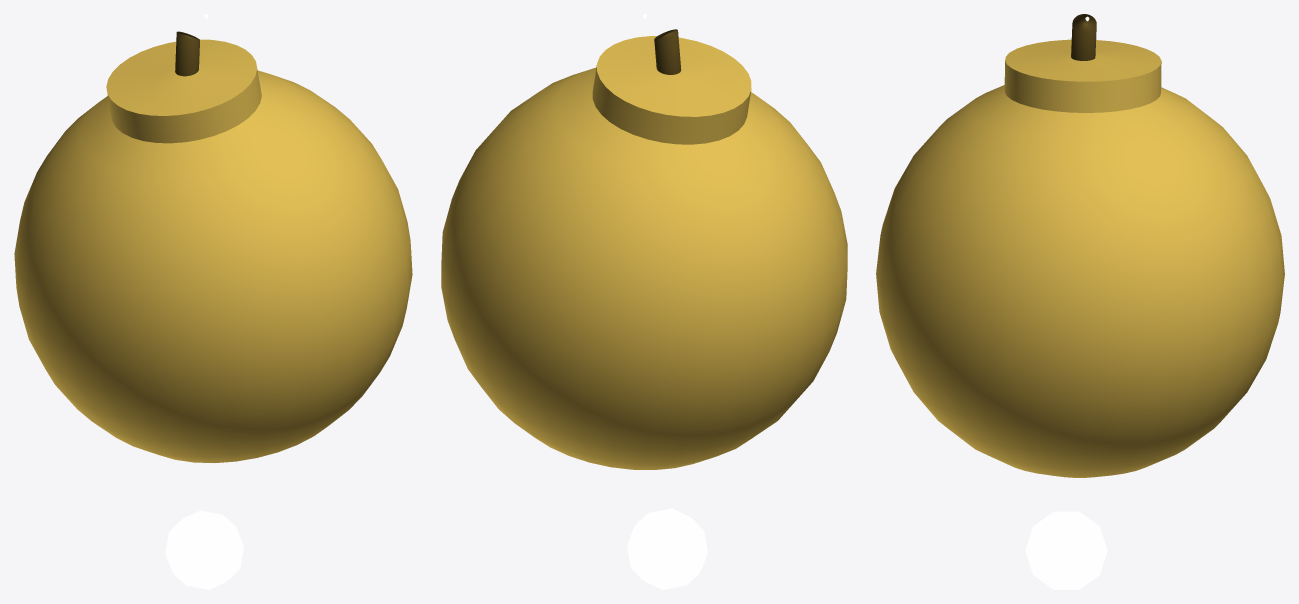
Rendered from bomba.glb.
3 views of the same model, side by side, from view 1: azimuth 30°, elevation 25°; view 2: azimuth 150°, elevation 25°; view 3: azimuth 270°, elevation 25° (orthographic). The views are drawn at different scales.
Visible parts, largest first — view 1: Sphere, Icosphere, Cylinder; view 2: Sphere, Icosphere, Cylinder; view 3: Sphere, Icosphere, Cylinder.
Boxes of the visible parts, x1,y1,x2,y2 form: Sphere: [14, 39, 412, 463]; Icosphere: [165, 510, 243, 589]; Cylinder: [175, 31, 199, 76]; Sphere: [441, 36, 847, 469]; Icosphere: [627, 508, 707, 589]; Cylinder: [654, 29, 681, 74]; Sphere: [876, 39, 1284, 477]; Icosphere: [1025, 511, 1107, 589]; Cylinder: [1071, 14, 1096, 60].
Size of the model in its own units: 3.05 by 4.76 by 3.06.
